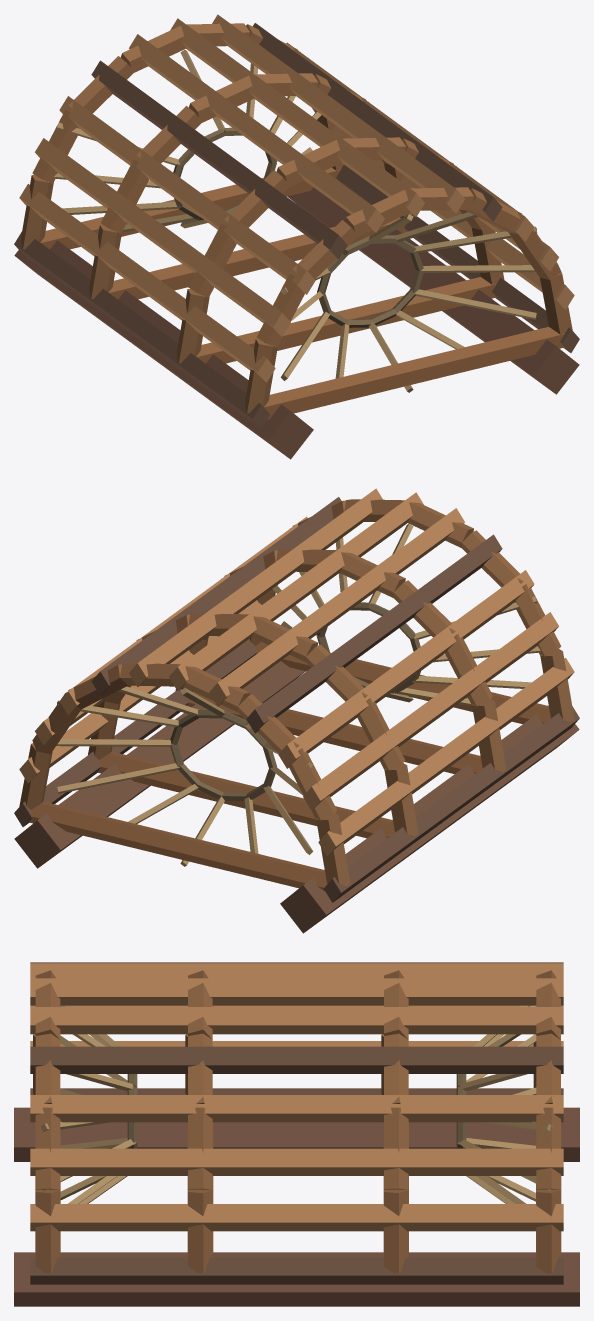
File: BentWillowCreel.glb
3 views of the same model, one above another, from view 1: azimuth 30°, elevation 25°; view 2: azimuth 150°, elevation 25°; view 3: azimuth 270°, elevation 25° (orthographic). The views are drawn at different scales.
Visible parts, largest first — view 1: BentWillowCreel; view 2: BentWillowCreel; view 3: BentWillowCreel.
Part boxes in pixels (x1,y1,x2,y2): BentWillowCreel: [14, 14, 579, 459]; BentWillowCreel: [14, 488, 579, 933]; BentWillowCreel: [14, 962, 579, 1306].
Size of the model in its own units: 0.7768 by 0.5187 by 1.04.
